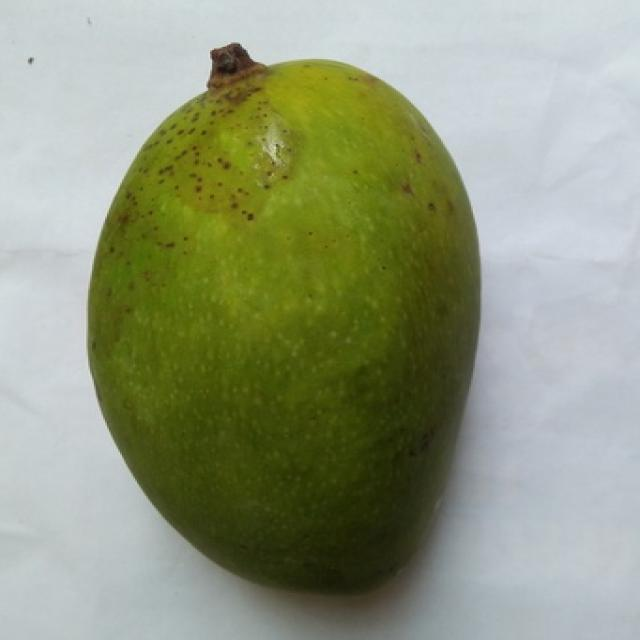Mango: (88, 61, 477, 590)
